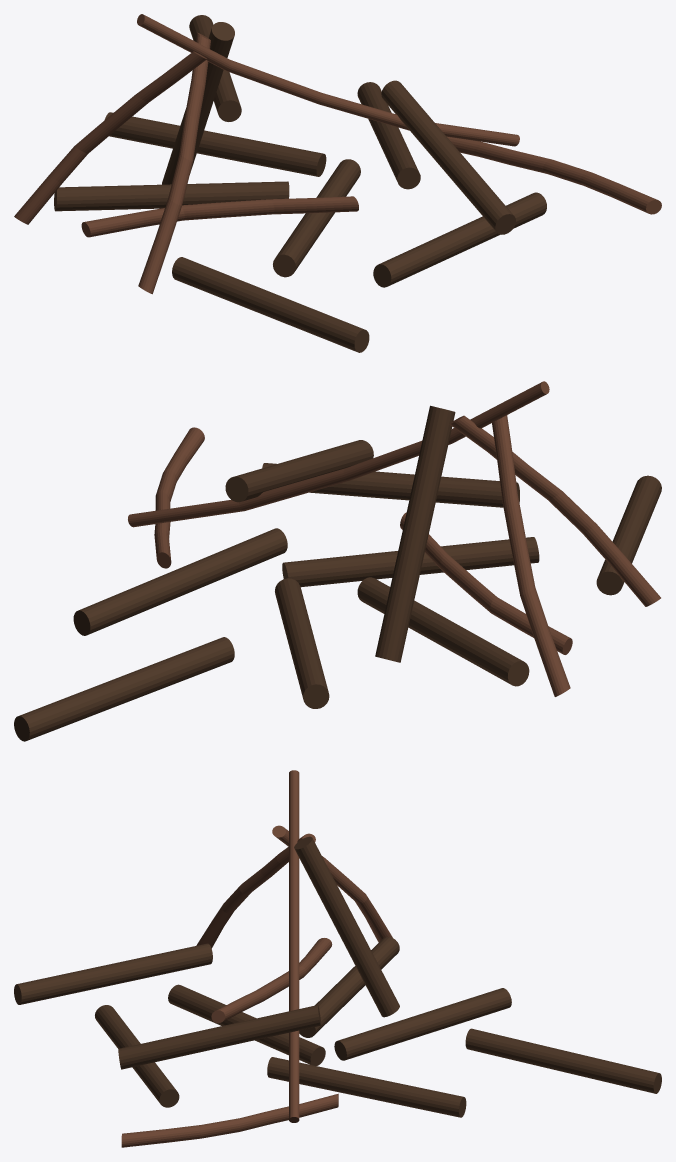
File: Tente mine 3.fbx
The picture shows the model from 3 angles, top to bottom: view 1: azimuth 30°, elevation 25°; view 2: azimuth 150°, elevation 25°; view 3: azimuth 270°, elevation 25°; orthographic projection. The views are drawn at different scales.
Visible parts, largest first — view 1: rodin de bois coter habitation.089, rodin de bois coter habitation.074, rodin de bois coter habitation.060, rodin de bois coter habitation.087, bois haut dessus.002, bois coter 2.002, rodin de bois coter habitation.059, bois coter 3.002, bois coter 4.002, bois coter 1.002, rodin de bois coter habitation.061, rodin de bois coter habitation.079 (+2 smaller); view 2: rodin de bois coter habitation.076, rodin de bois coter habitation.088, rodin de bois coter habitation.079, bois haut dessus.002, rodin de bois coter habitation.061, bois coter 4.002, rodin de bois coter habitation.074, bois coter 3.002, rodin de bois coter habitation.059, rodin de bois coter habitation.060, rodin de bois coter habitation.087, rodin de bois coter habitation.089 (+2 smaller); view 3: rodin de bois coter habitation.060, rodin de bois coter habitation.089, rodin de bois coter habitation.088, rodin de bois coter habitation.076, rodin de bois coter habitation.079, rodin de bois coter habitation.087, bois haut dessus.002, bois coter 1.002, rodin de bois coter habitation.061, rodin de bois coter habitation.059, rodin de bois coter habitation.074, bois coter 2.002 (+2 smaller).
Part boxes in pixels (x1,y1,x2,y2): rodin de bois coter habitation.089: (172,257,369,352); rodin de bois coter habitation.074: (54,181,289,211); rodin de bois coter habitation.060: (381,80,515,234); rodin de bois coter habitation.087: (104,112,326,176); bois haut dessus.002: (137,14,519,146); bois coter 2.002: (81,196,358,237); rodin de bois coter habitation.059: (373,192,546,287); bois coter 3.002: (138,32,210,294); bois coter 4.002: (14,51,206,224); bois coter 1.002: (447,136,661,214); rodin de bois coter habitation.061: (273,159,360,277); rodin de bois coter habitation.079: (357,82,420,189); rodin de bois coter habitation.076: (375,405,455,662); rodin de bois coter habitation.088: (14,637,234,741); rodin de bois coter habitation.079: (73,528,287,635); bois haut dessus.002: (128,381,549,527); rodin de bois coter habitation.061: (282,537,539,587); bois coter 4.002: (492,415,570,696); rodin de bois coter habitation.074: (357,577,529,686); bois coter 3.002: (449,415,660,606); rodin de bois coter habitation.059: (262,463,519,507); rodin de bois coter habitation.060: (225,440,373,502); rodin de bois coter habitation.087: (275,578,329,708); rodin de bois coter habitation.089: (596,475,661,595); rodin de bois coter habitation.060: (118,1005,321,1069); rodin de bois coter habitation.089: (14,943,212,1004); rodin de bois coter habitation.088: (465,1028,661,1093); rodin de bois coter habitation.076: (294,836,399,1017); rodin de bois coter habitation.079: (267,1057,466,1117); rodin de bois coter habitation.087: (334,988,511,1060); bois haut dessus.002: (289,770,299,1122); bois coter 1.002: (121,1093,338,1147); rodin de bois coter habitation.061: (168,984,325,1065); rodin de bois coter habitation.059: (95,1005,179,1107); rodin de bois coter habitation.074: (299,937,399,1037); bois coter 2.002: (211,938,332,1023).
Bounding box in the file's own units: 942 × 434 × 1216.
